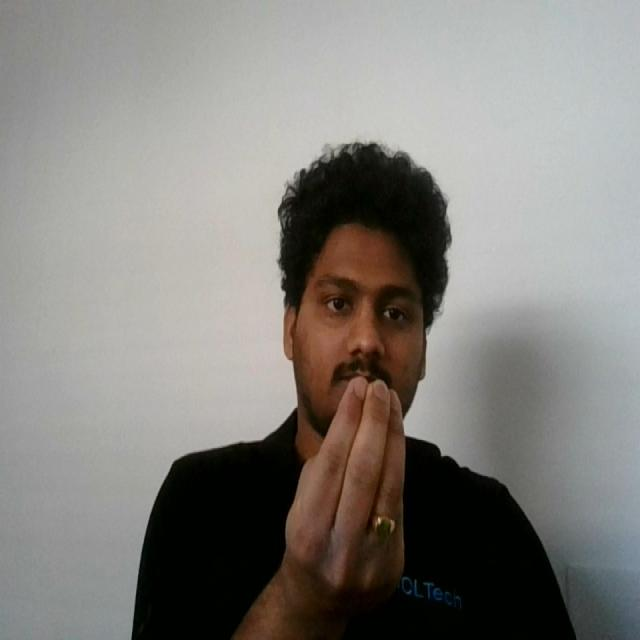Please: (271, 366, 416, 628)
